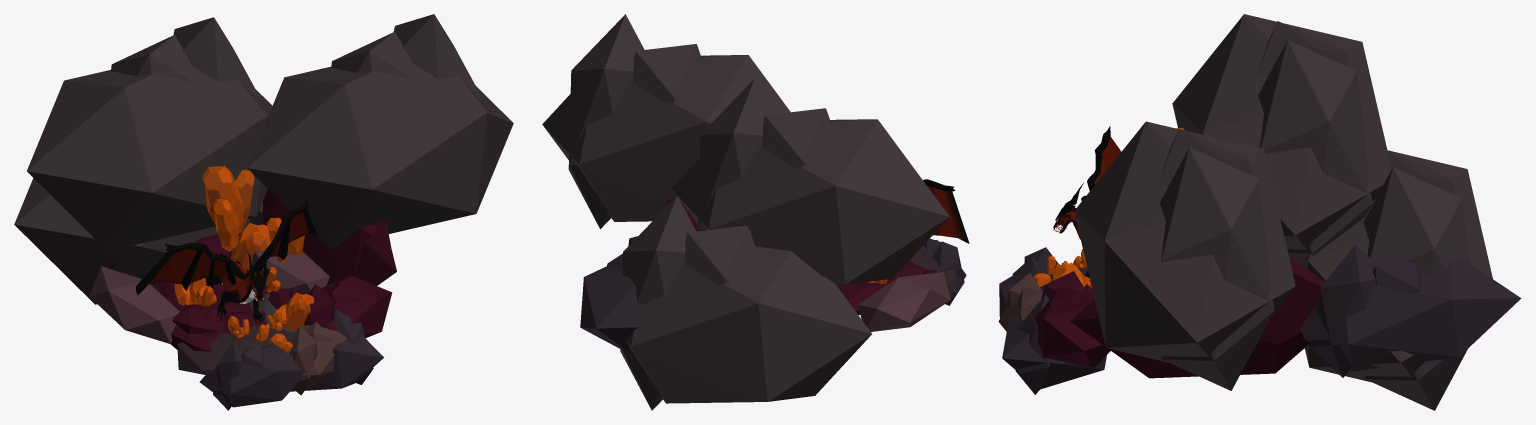
The model's file is dragonScene.fbx.
3 views of the same model, side by side, from view 1: azimuth 30°, elevation 25°; view 2: azimuth 150°, elevation 25°; view 3: azimuth 270°, elevation 25° (orthographic). The views are drawn at different scales.
Visible parts, largest first — view 1: Icosphere.001, Cube.015, dragon; view 2: Icosphere.001, dragon; view 3: Icosphere.001, dragon, Cube.015.
Part boxes in pixels (box(x1,y1,x2,y2)): Icosphere.001: box(14, 14, 513, 410); Cube.015: box(174, 166, 314, 353); dragon: box(136, 199, 318, 323); Icosphere.001: box(542, 14, 966, 410); dragon: box(923, 179, 969, 243); Icosphere.001: box(998, 14, 1521, 410); dragon: box(1053, 126, 1121, 277); Cube.015: box(1033, 127, 1184, 288).
Bounding box in the file's own units: 4866 × 3141 × 4276.
